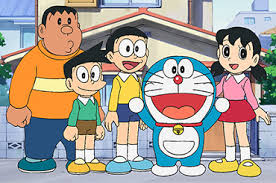doraemon: (128, 56, 230, 179)
